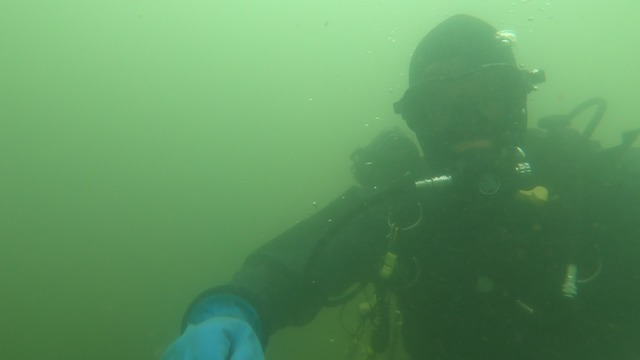Diver: (159, 9, 636, 356)
Hand: (150, 300, 278, 359)
Head: (395, 12, 551, 187)
